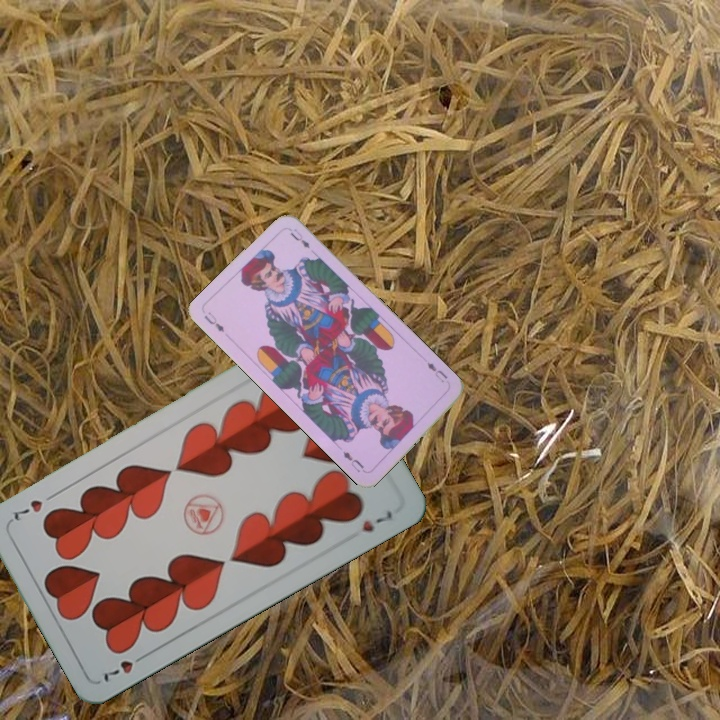EU: (423, 358, 450, 385), (200, 308, 227, 335)
H7: (96, 648, 151, 684)
